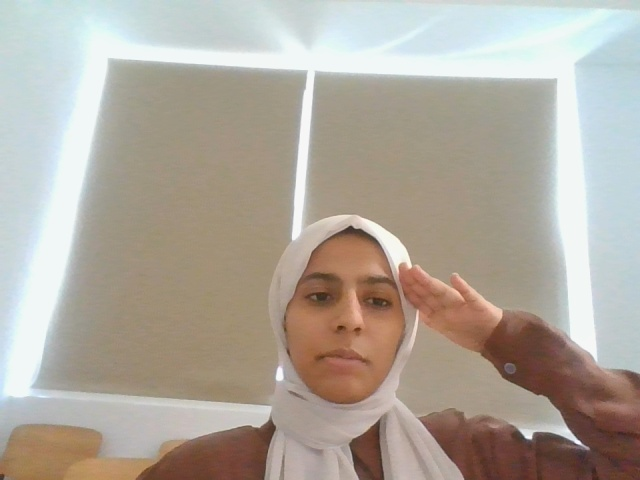hello: (392, 248, 516, 376)
